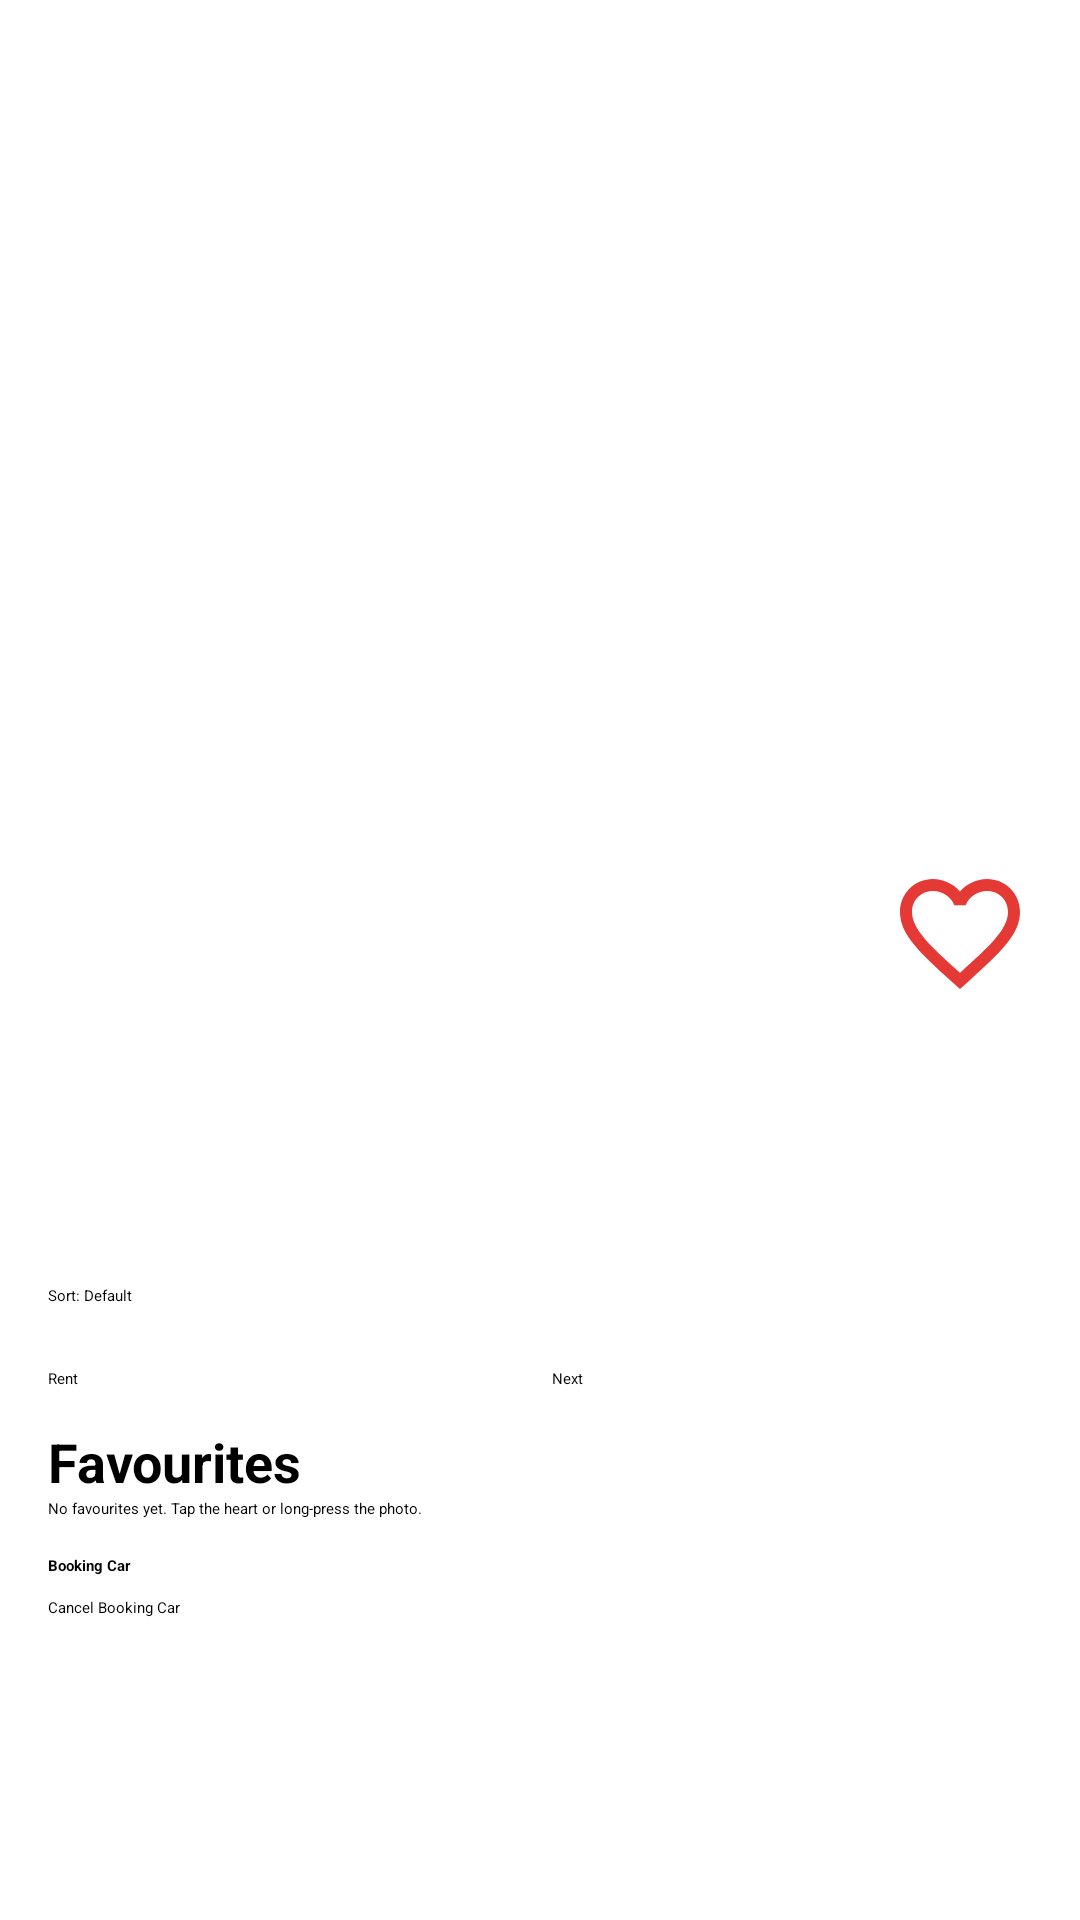

Icons on this 1080px x 1920px Android screen, each with the point to tap as point (x, y):
Mark as favourite: point (960, 934)
